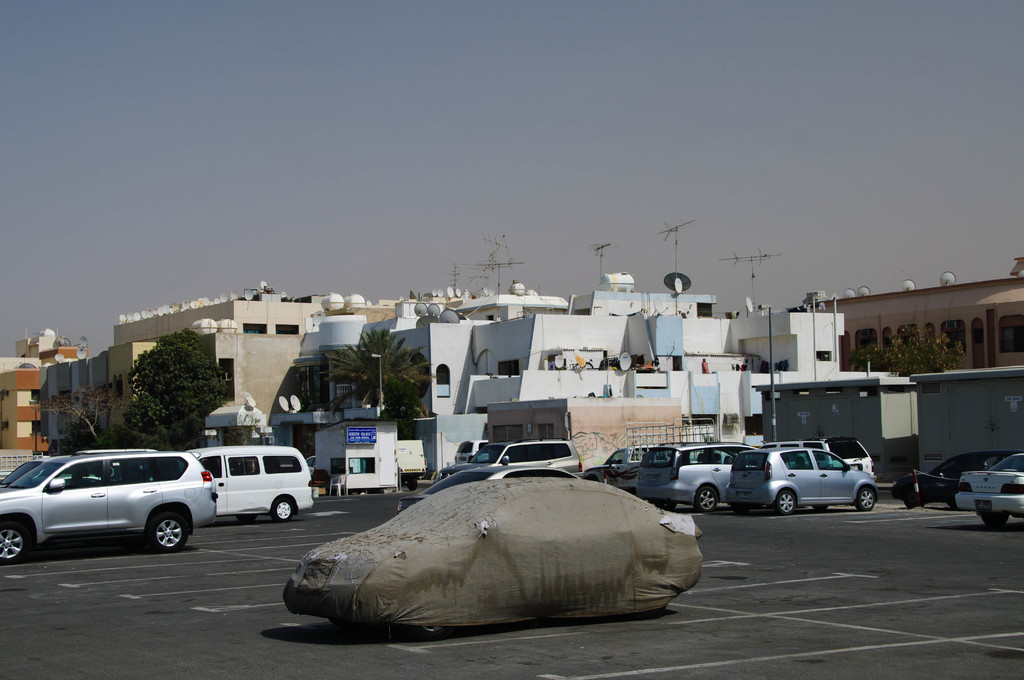Car: (277, 439, 886, 640), (0, 453, 215, 550), (892, 446, 1023, 507), (953, 455, 1023, 530)
